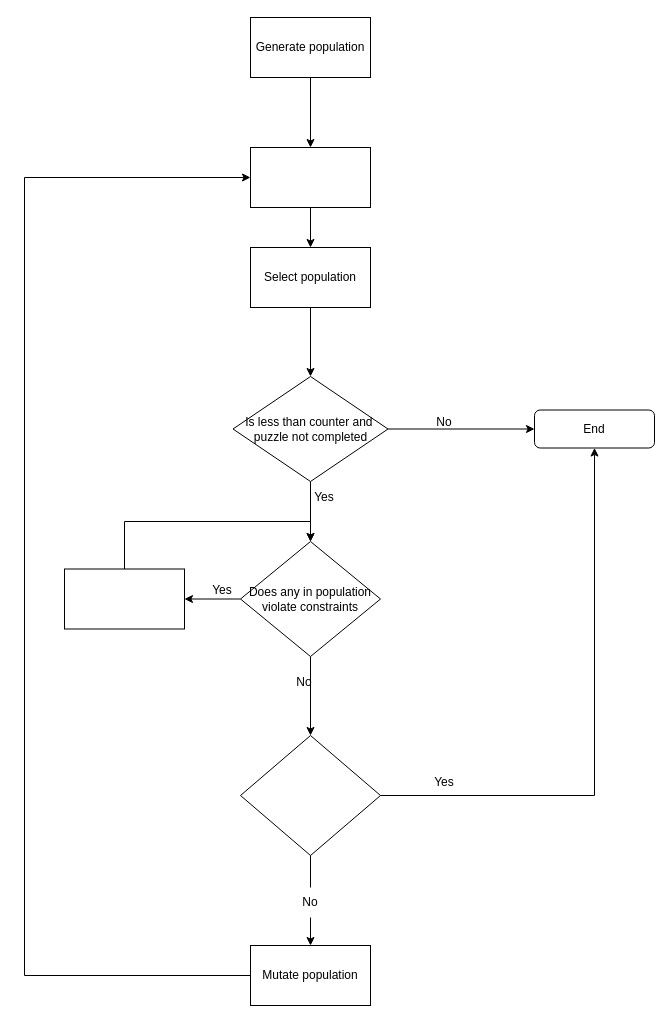
Image size: 672x1023. Some labels were removed from this diagram. The centre of each missing label's shape, as x and y in pixels:
"Is puzzle complete" belongs at point (310, 795).
"Repair population" belongs at point (124, 598).
"Sort" belongs at point (310, 177).
